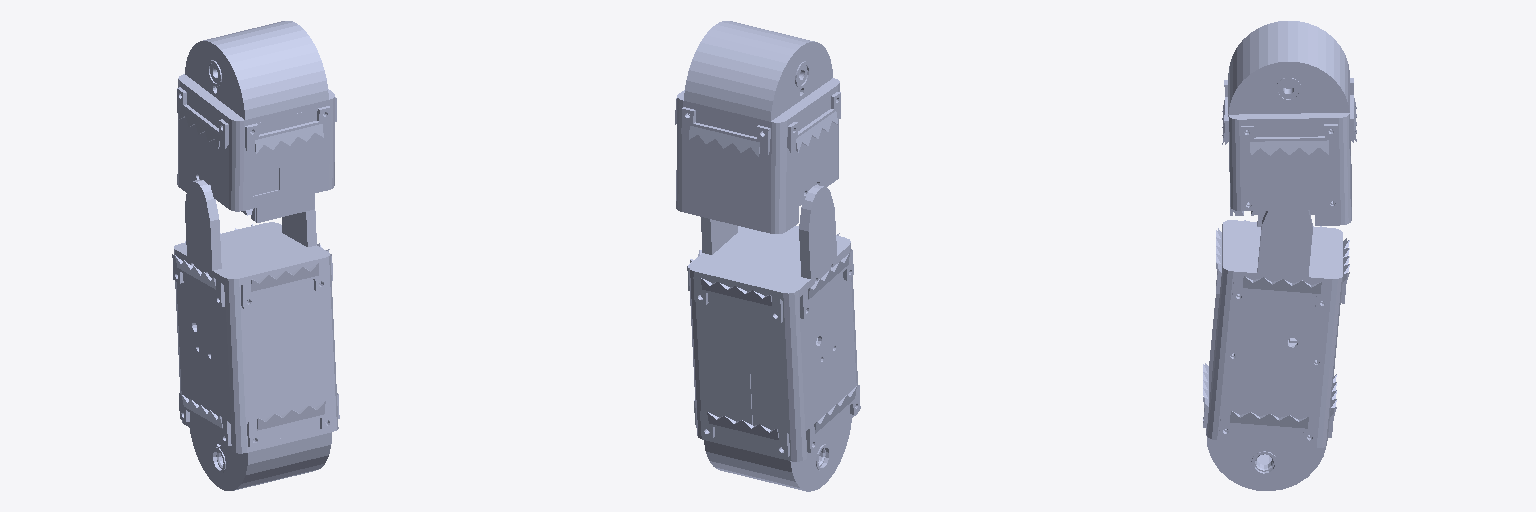
robot.urdf — serpent:
<?xml version="1.0" encoding="utf-8"?>
<!-- This URDF was automatically created by SolidWorks to URDF Exporter! Originally created by [author] ([email redacted]) 
     Commit Version: 1.6.0-4-g7f85cfe  Build Version: 1.6.7995.38578
     For more information, please see http://wiki.ros.org/sw_urdf_exporter -->
<robot
  name="serpent">
  
     <gazebo>
    <plugin name="gazebo_ros_control" filename="libgazebo_ros_control.so">
      <robotNamespace>/serpent_gazebo</robotNamespace>
    </plugin>
  </gazebo>
 
   
  <transmission name="serpent_joint_1_trans">
    <type>transmission_interface/SimpleTransmission</type>
    <actuator name="motor1">
      <mechanicalReduction>1</mechanicalReduction>
    </actuator>
    <joint name="serpent_joint_1">
      <hardwareInterface>hardware_interface/EffortJointInterface</hardwareInterface>
    </joint>
  </transmission> 
  
  
  <link name="world" />
  
  <joint name="dummy_link" type="fixed">
    <parent link="world"/>
    <child link="BOTTOM"/>
  </joint>
  
  <link
    name="BOTTOM">
    <inertial>
      <origin
        xyz="-0.00313734991230859 -0.00474622649736089 0.0419505748550408"
        rpy="0 0 0" />
      <mass
        value="0.248846427803799" />
      <inertia
        ixx="0.000337065099453283"
        ixy="-7.04565952367779E-07"
        ixz="4.81639331367407E-06"
        iyy="0.00043528469589621"
        iyz="-8.21355335871629E-06"
        izz="0.000319081784729365" />
    </inertial>
    <visual>
      <origin
        xyz="0 0 0"
        rpy="0 0 0" />
      <geometry>
        <mesh
          filename="package://serpent_gazebo/meshes/BOTTOM.STL" />
      </geometry>
      <material
        name="">
        <color
          rgba="0.792156862745098 0.819607843137255 0.933333333333333 1" />
      </material>
    </visual>
    <collision>
      <origin
        xyz="0 0 0"
        rpy="0 0 0" />
      <geometry>
        <mesh
          filename="package://serpent_gazebo/meshes/BOTTOM.STL" />
      </geometry>
    </collision>
  </link>
  -->
  <link
    name="TOP">
    <inertial>
      <origin
        xyz="0.00351440727191355 -0.112572278209649 -0.000478766564033797"
        rpy="0 0 0" />
      <mass
        value="0.503745908624564" />
      <inertia
        ixx="0.00216516689167981"
        ixy="-2.7241873369572E-06"
        ixz="5.1400856991087E-06"
        iyy="0.000889853519288545"
        iyz="-1.73937977239561E-05"
        izz="0.00219647789821076" />
    </inertial>
    <visual>
      <origin
        xyz="0 0 0"
        rpy="0 0 0" />
      <geometry>
        <mesh
          filename="package://serpent_gazebo/meshes/TOP.STL" />
      </geometry>
      <material
        name="">
        <color
          rgba="0.792156862745098 0.819607843137255 0.933333333333333 1" />
      </material>
    </visual>
    <collision>
      <origin
        xyz="0 0 0"
        rpy="0 0 0" />
      <geometry>
        <mesh
          filename="package://serpent_gazebo/meshes/TOP.STL" />
      </geometry>
    </collision>
  </link>
  
  <joint
    name="serpent_joint_1"
    type="continuous">
    <origin
      xyz="0 -0.044432012931505 -0.0505772211610462"
      rpy="1.31422119136425 0 -3.14159265358979" />
    <parent
      link="BOTTOM" />
    <child
      link="TOP" />
    <axis
      xyz="1 0 0" />
  </joint>
  
</robot>

--- Render facts (derived) ---
The picture shows the robot from 3 angles, left to right: view 1: azimuth 30°, elevation 25°; view 2: azimuth 150°, elevation 25°; view 3: azimuth 270°, elevation 25°; orthographic projection.
Robot: serpent — 3 links, 2 joints (1 continuous, 1 fixed); root link world; default pose: all joints at 0.
Links seen in each view (by area): view 1: TOP, BOTTOM; view 2: TOP, BOTTOM; view 3: TOP, BOTTOM.
Link boxes in pixels (x1,y1,x2,y2): TOP: [172, 179, 339, 490]; BOTTOM: [177, 21, 336, 222]; TOP: [687, 185, 860, 491]; BOTTOM: [675, 21, 840, 233]; TOP: [1203, 210, 1349, 490]; BOTTOM: [1222, 21, 1356, 225].
Size in the robot's own frame: 0.1068 by 0.1144 by 0.3552 metres.
Meshes: 2 distinct files referenced, 2 mesh visuals loaded (2 binary STL).